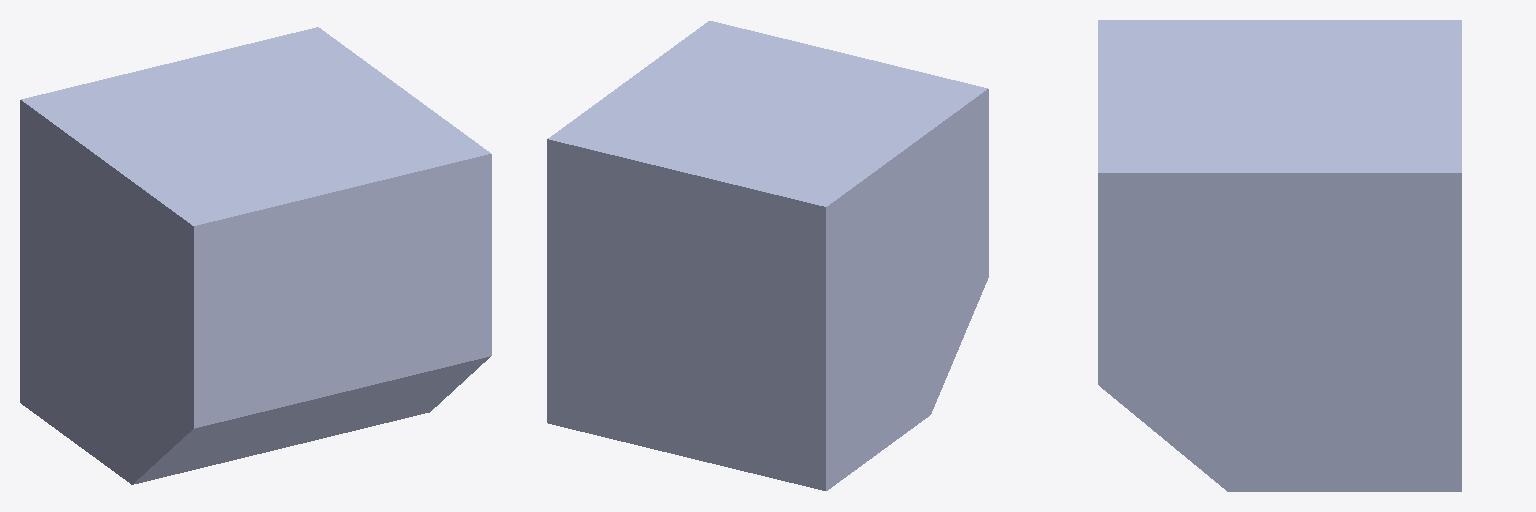
URDF robot description (Box6-2):
<?xml version="1.0" encoding="utf-8"?>
<!-- This URDF was automatically created by SolidWorks to URDF Exporter! Originally created by [author] ([email redacted]) 
     Commit Version: 1.6.0-1-g15f4949  Build Version: 1.6.7594.29634
     For more information, please see http://wiki.ros.org/sw_urdf_exporter -->
<robot
  name="Box6-2">
  <link
    name="base_link">
    <inertial>
      <origin
        xyz="-0.077 -0.0737809523809524 0.0786666666666667"
        rpy="0 0 0" />
      <mass
        value="3.36875" />
      <inertia
        ixx="0.0122632059305555"
        ixy="-5.04024938518558E-20"
        ixz="3.07649425050656E-19"
        iyy="0.0125759715277778"
        iyz="0.00076059423611111"
        izz="0.0130027802361111" />
    </inertial>
    <visual>
      <origin
        xyz="0 0 0"
        rpy="0 0 0" />
      <geometry>
        <mesh
          filename="package://Box6-2/meshes/base_link.STL" />
      </geometry>
      <material
        name="">
        <color
          rgba="0.792156862745098 0.819607843137255 0.933333333333333 1" />
      </material>
    </visual>
    <collision>
      <origin
        xyz="0 0 0"
        rpy="0 0 0" />
      <geometry>
        <mesh
          filename="package://Box6-2/meshes/base_link.STL" />
      </geometry>
    </collision>
  </link>
</robot>

--- Facts derived from the render (not from the file) ---
Views: 3 orthographic renders of the robot side by side, from view 1: azimuth 30°, elevation 25°; view 2: azimuth 150°, elevation 25°; view 3: azimuth 270°, elevation 25°.
Model Box6-2 with 1 links and 0 joints (none), rooted at base_link, posed every joint at zero.
Links seen in each view (by area): view 1: base_link; view 2: base_link; view 3: base_link.
Boxes of the visible links, bbox=[...] form: base_link: bbox=[20, 27, 491, 484]; base_link: bbox=[547, 21, 988, 490]; base_link: bbox=[1098, 20, 1461, 491].
Size in the robot's own frame: 0.154 by 0.155 by 0.15 metres.
1 mesh visuals loaded from 1 distinct referenced files (1 binary STL).